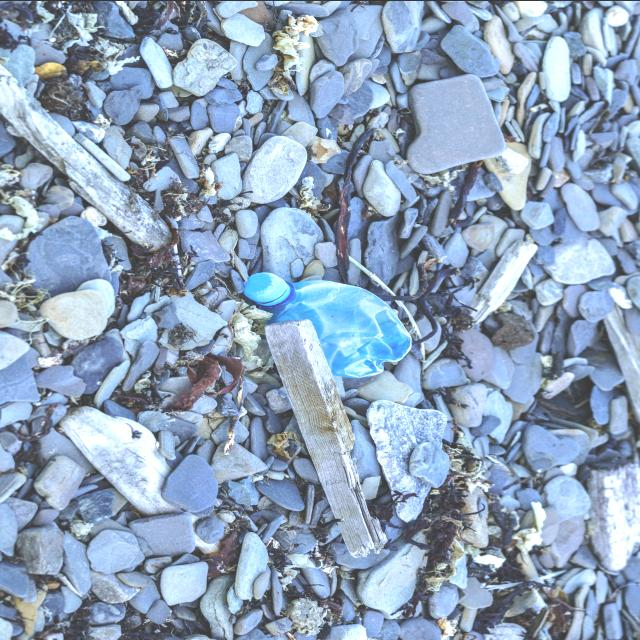Clear plastic bottle: (242, 271, 412, 378)
Plastic bottle cap: (242, 271, 286, 302)
Plastic straw: (349, 253, 426, 357)
